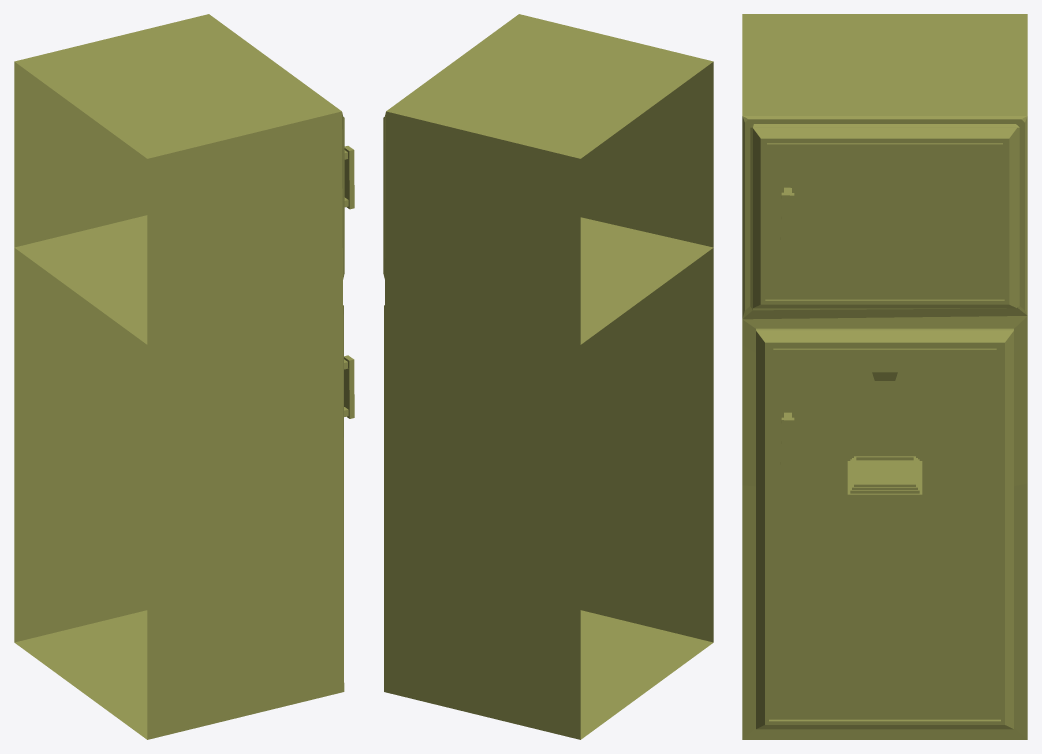
The model's file is Frigider1.fbx.
3 renders of one model, left to right at view 1: azimuth 30°, elevation 25°; view 2: azimuth 150°, elevation 25°; view 3: azimuth 270°, elevation 25°, orthographic. The views are drawn at different scales.
Visible parts, largest first — view 1: Frigider; view 2: Frigider; view 3: Frigider.
Boxes of the visible parts, bbox=[...] form: Frigider: bbox=[14, 14, 354, 739]; Frigider: bbox=[383, 14, 713, 739]; Frigider: bbox=[742, 14, 1027, 739].
Size of the model in its own units: 229 by 564 by 234.
